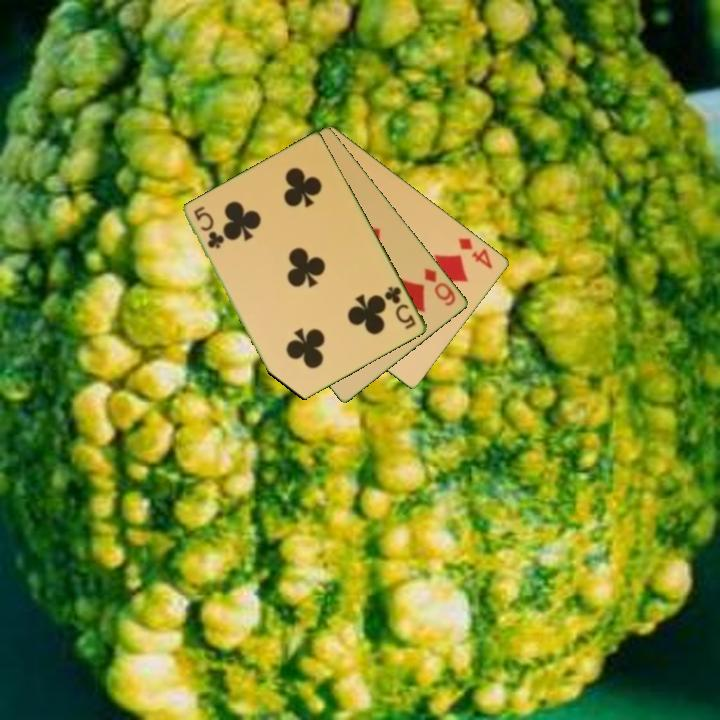4d: (455, 234, 496, 272)
5c: (381, 282, 419, 332), (190, 203, 225, 252)
6d: (421, 264, 459, 309)
